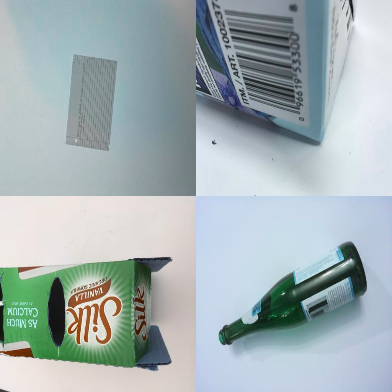cardboard: (197, 1, 354, 144), (1, 256, 173, 371)
glass: (219, 240, 368, 346)
paper: (66, 52, 118, 152)
